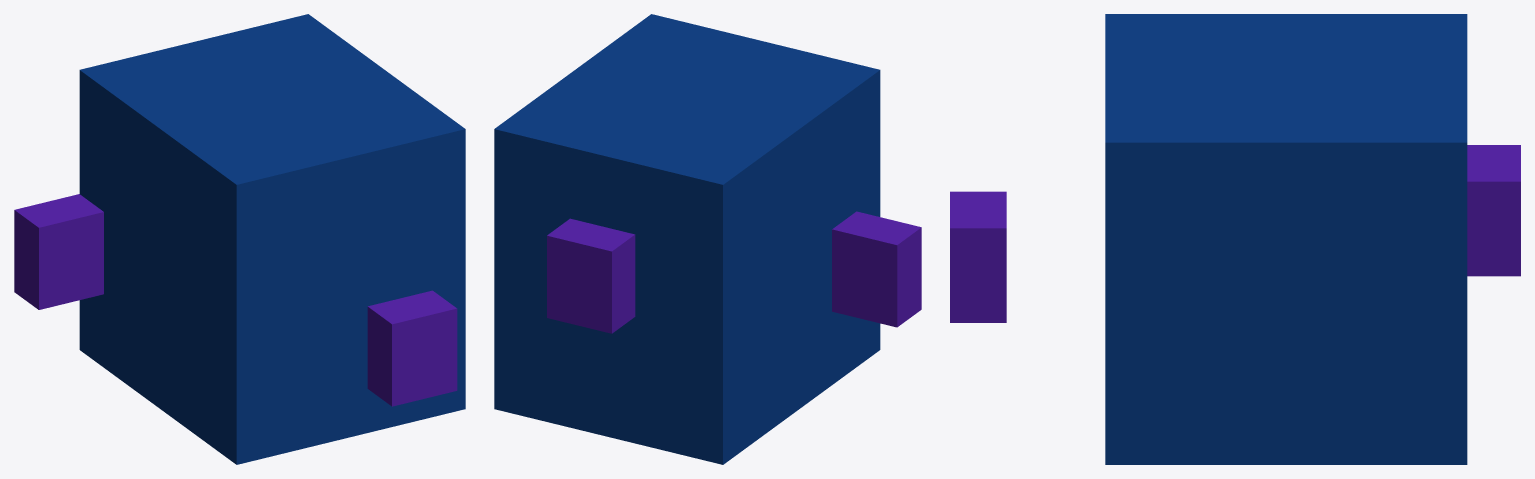
Rendered from maya-test.dae.
3 views of the same model, side by side, from view 1: azimuth 30°, elevation 25°; view 2: azimuth 150°, elevation 25°; view 3: azimuth 270°, elevation 25° (orthographic). The views are drawn at different scales.
Parts seen in each view (by area): view 1: Box001, Box002, Box004; view 2: Box001, Box004, Box003; view 3: Box001, Box002, Box003.
Part boxes in pixels (left/top/right/bottom): Box001: left=79, top=14, right=465, bottom=464; Box002: left=367, top=290, right=457, bottom=406; Box004: left=14, top=194, right=103, bottom=309; Box001: left=494, top=14, right=880, bottom=464; Box004: left=832, top=211, right=921, bottom=327; Box003: left=547, top=218, right=635, bottom=333; Box001: left=1105, top=14, right=1467, bottom=464; Box002: left=950, top=191, right=1006, bottom=322; Box003: left=1467, top=145, right=1520, bottom=276.
Size of the model in its own units: 92.19 by 114 by 70.79.
